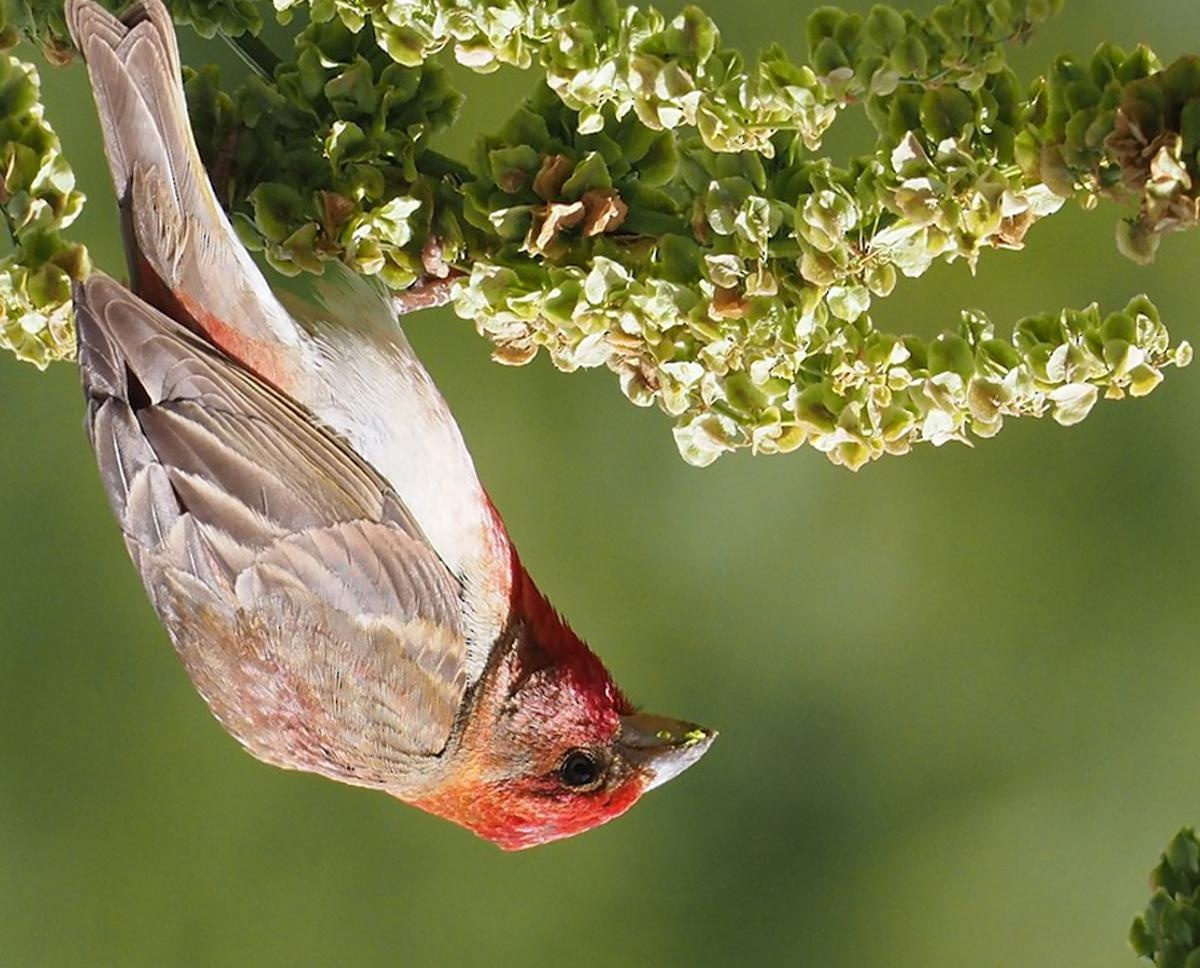rosefinch: (39, 86, 724, 846)
